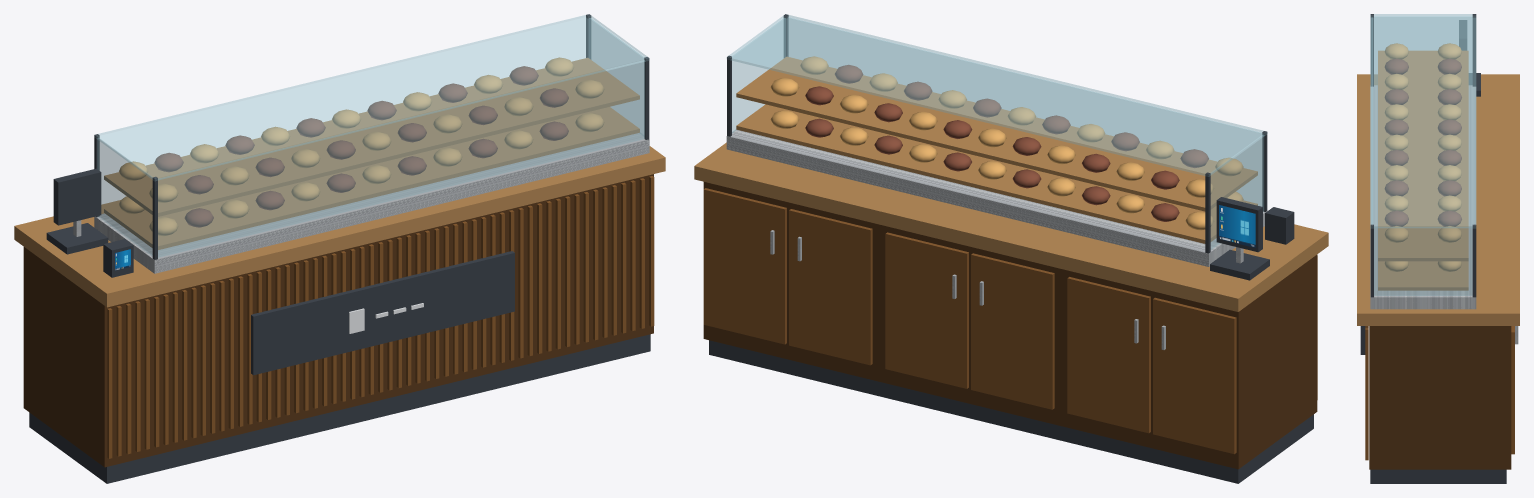
The model's file is checkout-cafe-pastry-3m.glb.
The picture shows the model from 3 angles, left to right: view 1: azimuth 30°, elevation 25°; view 2: azimuth 150°, elevation 25°; view 3: azimuth 270°, elevation 25°; orthographic projection. The views are drawn at different scales.
Parts seen in each view (by area): view 1: counter-cabinet, pastry-case-glass-front, pastry-case-glass-top, pastry-case-tray (×2), counter-front-batten (×31), counter-worktop, cafe-fascia, pastry-case-base, counter-plinth, counter-pastries_e3ae67, counter-pastries_88503c, pastry-case-glass-side (×2) (+3 smaller); view 2: counter-rear-door (×6), pastry-case-glass-top, counter-cabinet, pastry-case-tray (×2), counter-worktop, pastry-case-glass-front, pastry-case-base, counter-plinth, counter-pastries_e3ae67, counter-pastries_88503c, pastry-case-glass-side (×2), counter-pos-screen (+3 smaller); view 3: pastry-case-glass-top, counter-cabinet, counter-worktop, pastry-case-tray (×2), pastry-case-glass-side (×2), pastry-case-base, counter-pastries_e3ae67, counter-pastries_88503c, counter-plinth, pastry-case-post (×4), counter-front-batten, counter-rear-door (+2 smaller).
Boxes of the visible parts, <box> form: counter-cabinet: <box>23,174,653,467</box>; pastry-case-glass-front: <box>158,60,645,257</box>; pastry-case-glass-top: <box>94,14,649,180</box>; pastry-case-tray (×2): <box>104,58,639,249</box>; counter-front-batten (×31): <box>107,176,654,458</box>; counter-worktop: <box>14,146,665,307</box>; cafe-fascia: <box>251,251,514,375</box>; pastry-case-base: <box>94,133,649,273</box>; counter-plinth: <box>29,334,650,483</box>; counter-pastries_e3ae67: <box>119,57,604,236</box>; counter-pastries_88503c: <box>154,66,568,227</box>; pastry-case-glass-side (×2): <box>97,18,643,256</box>; counter-rear-door (×6): <box>703,188,1236,454</box>; pastry-case-glass-top: <box>726,15,1267,176</box>; counter-cabinet: <box>703,182,1317,469</box>; pastry-case-tray (×2): <box>736,56,1257,243</box>; counter-worktop: <box>694,142,1328,311</box>; pastry-case-glass-front: <box>788,17,1261,206</box>; pastry-case-base: <box>726,129,1267,266</box>; counter-plinth: <box>709,340,1313,483</box>; counter-pastries_e3ae67: <box>770,56,1243,230</box>; counter-pastries_88503c: <box>805,65,1208,221</box>; pastry-case-glass-side (×2): <box>732,18,1264,249</box>; counter-pos-screen: <box>1219,205,1255,247</box>; pastry-case-glass-top: <box>1370,14,1476,228</box>; counter-cabinet: <box>1369,326,1511,469</box>; counter-worktop: <box>1357,74,1519,325</box>; pastry-case-tray (×2): <box>1378,50,1468,290</box>; pastry-case-glass-side (×2): <box>1374,16,1472,295</box>; pastry-case-base: <box>1370,85,1476,309</box>; counter-pastries_e3ae67: <box>1384,43,1461,271</box>; counter-pastries_88503c: <box>1384,58,1461,226</box>; counter-plinth: <box>1370,469,1506,483</box>; pastry-case-post (×4): <box>1370,14,1476,297</box>; counter-front-batten: <box>1365,328,1368,460</box>; counter-rear-door: <box>1511,326,1514,454</box>.
Size of the model in its own units: 2.99 by 1.5 by 0.86.
Materials: 10 (2 with a texture image).
